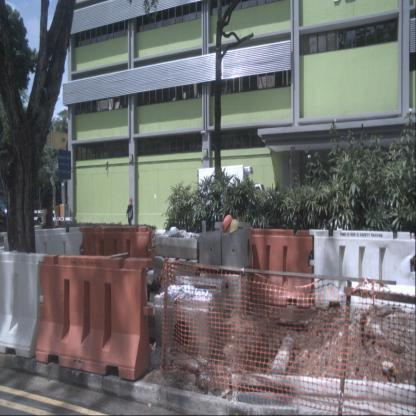barrier: (35, 254, 153, 382), (308, 229, 416, 317), (206, 227, 313, 308), (4, 227, 84, 303), (80, 226, 151, 303), (0, 250, 48, 360)
